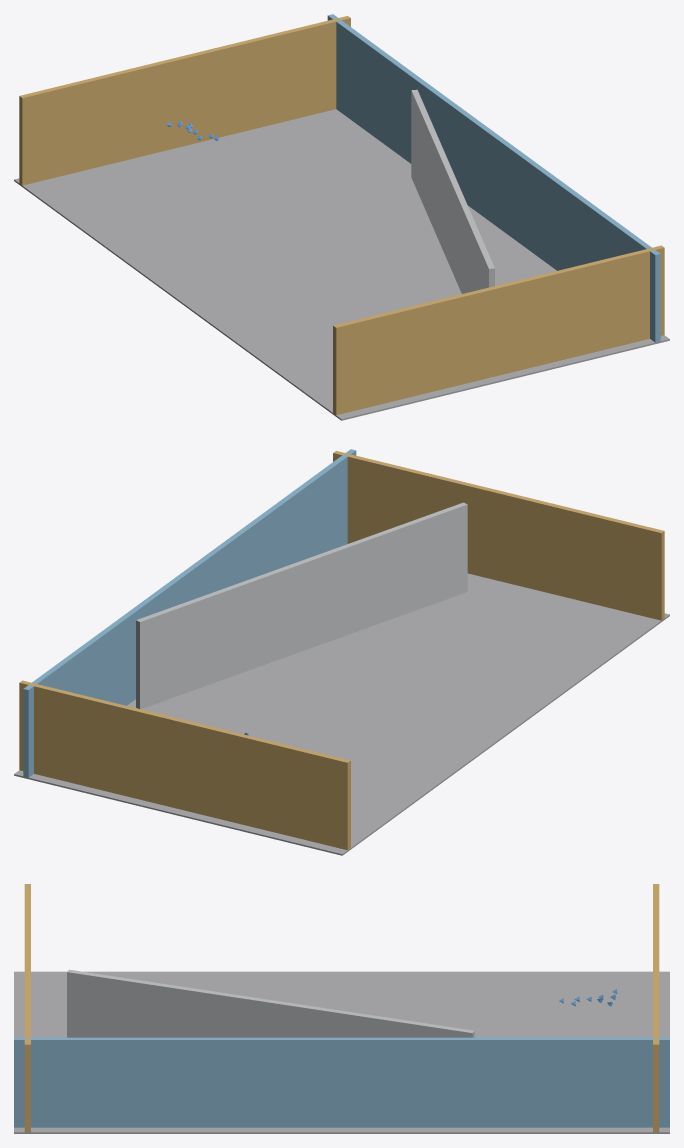
The model's file is planevue_video_demo_test.glb.
3 renders of one model, top to bottom at view 1: azimuth 30°, elevation 25°; view 2: azimuth 150°, elevation 25°; view 3: azimuth 270°, elevation 25°, orthographic.
Parts seen in each view (by area): view 1: floor_slab, wall_cmp_1_generated, wall_cmp_2_generated, wall_cmp_3_inferred, wall_obs_1; view 2: floor_slab, wall_obs_1, wall_cmp_2_generated, wall_cmp_1_generated, wall_cmp_3_inferred; view 3: wall_cmp_3_inferred, floor_slab, wall_obs_1, wall_cmp_1_generated, wall_cmp_2_generated.
Part boxes in pixels (x1,y1,x2,y2): floor_slab: (14, 109, 669, 420); wall_cmp_1_generated: (333, 245, 664, 415); wall_cmp_2_generated: (19, 16, 350, 185); wall_cmp_3_inferred: (327, 14, 660, 342); wall_obs_1: (411, 89, 494, 293); floor_slab: (14, 573, 669, 855); wall_obs_1: (136, 502, 467, 709); wall_cmp_2_generated: (19, 680, 350, 850); wall_cmp_1_generated: (333, 451, 664, 620); wall_cmp_3_inferred: (23, 449, 356, 777); wall_cmp_3_inferred: (14, 1037, 669, 1127); floor_slab: (14, 971, 669, 1133); wall_obs_1: (67, 969, 474, 1037); wall_cmp_1_generated: (24, 884, 30, 1132); wall_cmp_2_generated: (653, 884, 659, 1132).
Bounding box in the file's own units: 11 × 2.85 × 19.
